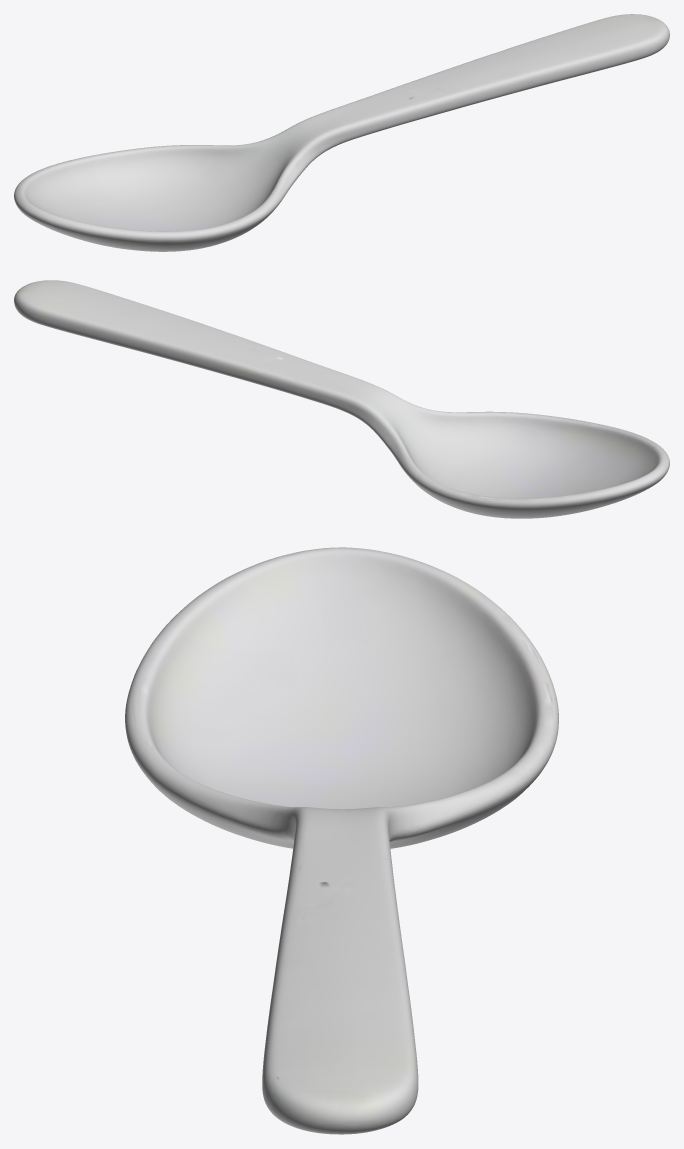
Rendered from tool-shaozi.glb.
3 views of the same model, one above another, from view 1: azimuth 30°, elevation 25°; view 2: azimuth 150°, elevation 25°; view 3: azimuth 270°, elevation 25° (orthographic). The views are drawn at different scales.
Parts seen in each view (by area): view 1: node_0; view 2: node_0; view 3: node_0.
Part boxes in pixels (box(x1,y1,x2,y2)): node_0: box(14, 14, 669, 251); node_0: box(14, 280, 669, 518); node_0: box(125, 547, 558, 1134).
Size of the model in its own units: 1.19 by 0.1635 by 0.3494.
Materials: 1 (1 with a texture image).
